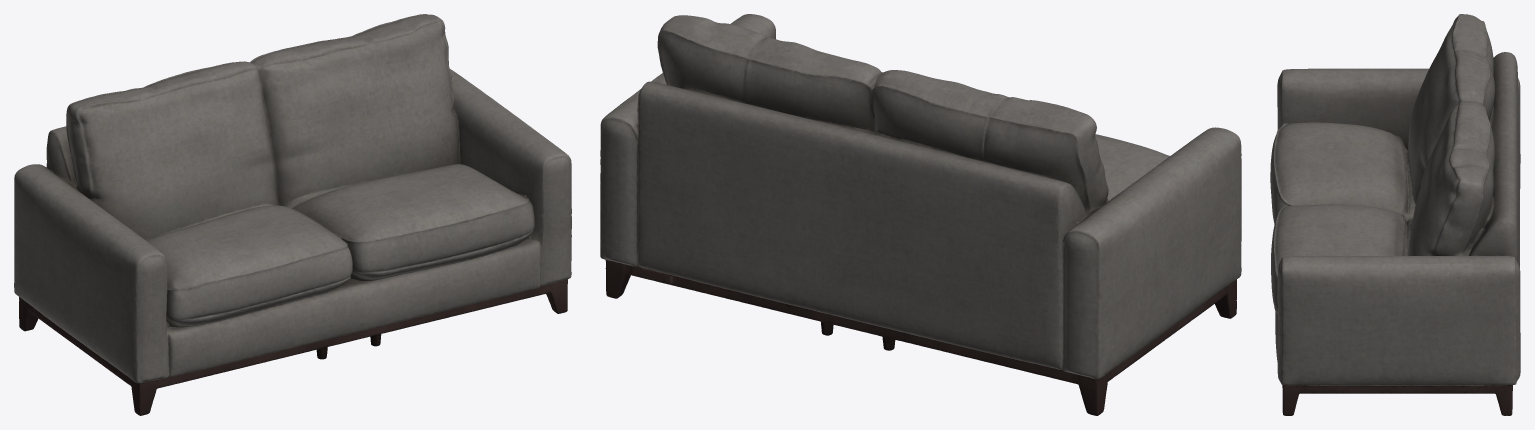
File: B07124WMX5.glb
The picture shows the model from 3 angles, left to right: view 1: azimuth 30°, elevation 25°; view 2: azimuth 150°, elevation 25°; view 3: azimuth 270°, elevation 25°; orthographic projection. The views are drawn at different scales.
Visible parts, largest first — view 1: geometry_0; view 2: geometry_0; view 3: geometry_0.
Part boxes in pixels (<box>): geometry_0: <box>14,14,571,415</box>; geometry_0: <box>600,14,1241,415</box>; geometry_0: <box>1270,14,1520,415</box>.
Size of the model in its own units: 0.8132 by 0.4104 by 0.4173.
Materials: 1 (1 with a texture image).
